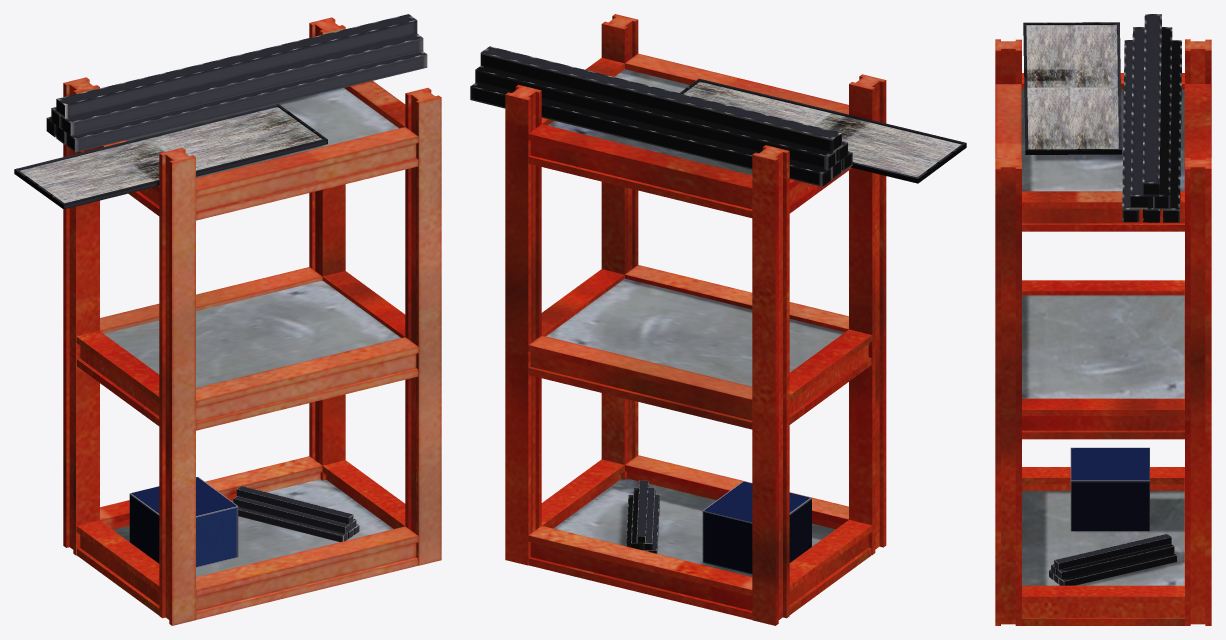
Rendered from tower2-2.obj.
The picture shows the model from 3 angles, left to right: view 1: azimuth 30°, elevation 25°; view 2: azimuth 150°, elevation 25°; view 3: azimuth 270°, elevation 25°; orthographic projection.
Size of the model in its own units: 13.94 by 15.19 by 6.37.
1 material, 1 textured.
